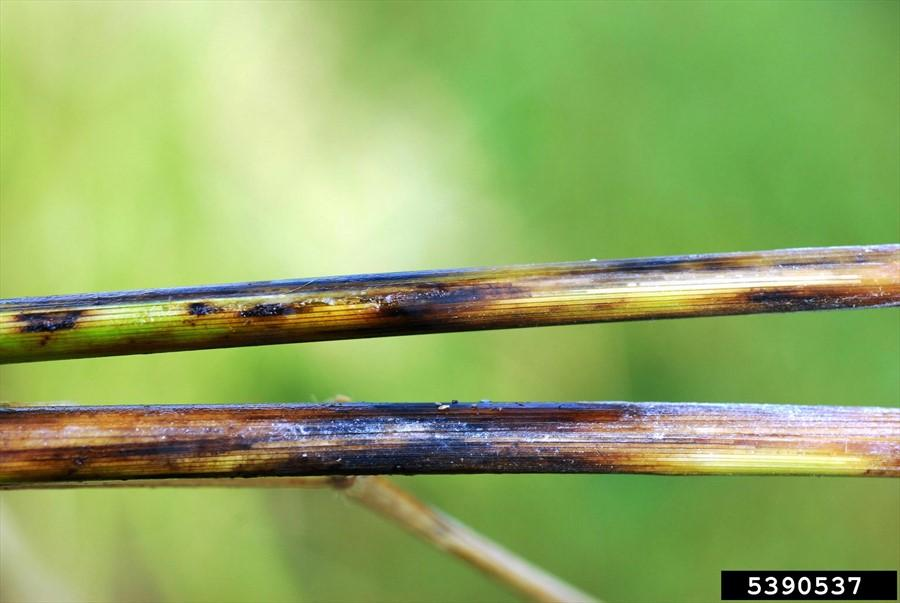Stem Rot: (0, 243, 900, 367), (0, 396, 900, 496), (0, 393, 900, 492), (337, 267, 553, 349), (731, 265, 900, 340), (141, 282, 321, 339), (565, 250, 771, 299), (1, 292, 103, 350)
